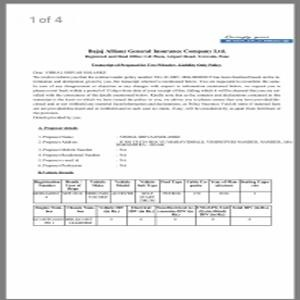image: (220, 33, 296, 45)
table: (33, 179, 273, 203), (33, 204, 273, 226)
text: (31, 69, 282, 121), (36, 125, 291, 173), (82, 45, 229, 68)
